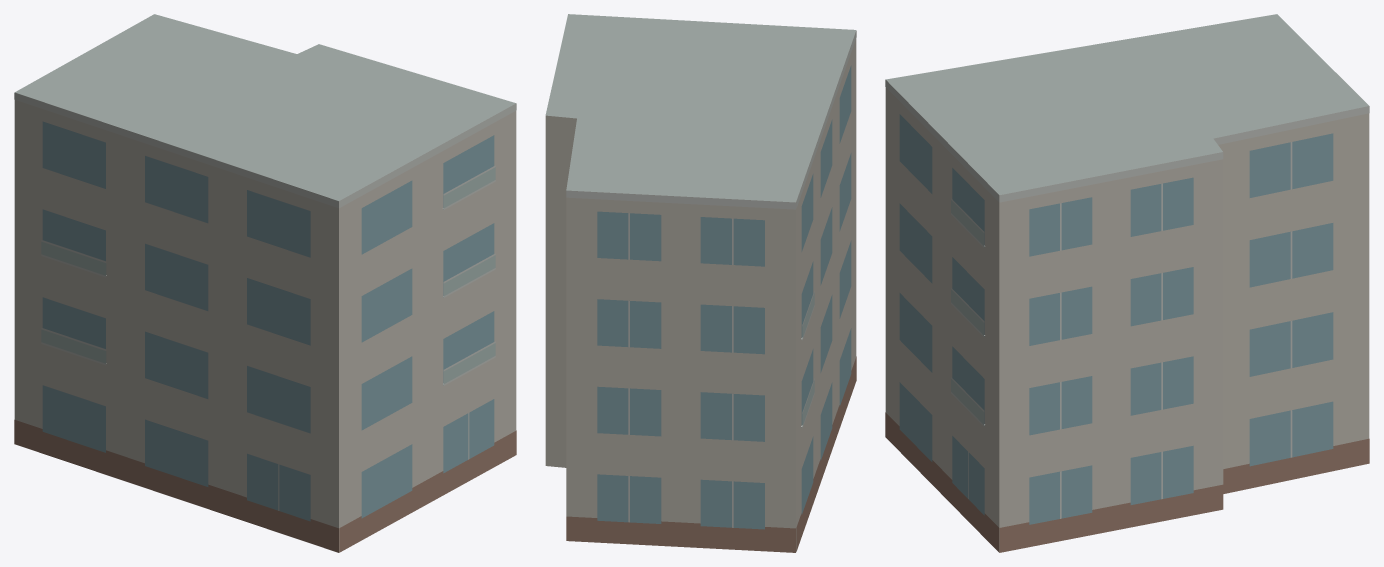
The model's file is survey-upis-33040587.glb.
The picture shows the model from 3 angles, left to right: view 1: azimuth 30°, elevation 25°; view 2: azimuth 150°, elevation 25°; view 3: azimuth 270°, elevation 25°; orthographic projection. The views are drawn at different scales.
Visible parts, largest first — view 1: survey-upis-33040587.tmp; view 2: survey-upis-33040587.tmp; view 3: survey-upis-33040587.tmp.
Part boxes in pixels (x1=…): survey-upis-33040587.tmp: x1=14, y1=14, x2=516, y2=552; survey-upis-33040587.tmp: x1=545, y1=14, x2=856, y2=552; survey-upis-33040587.tmp: x1=885, y1=14, x2=1369, y2=552.
Bounding box in the file's own units: 12.98 × 11.93 × 14.64.
